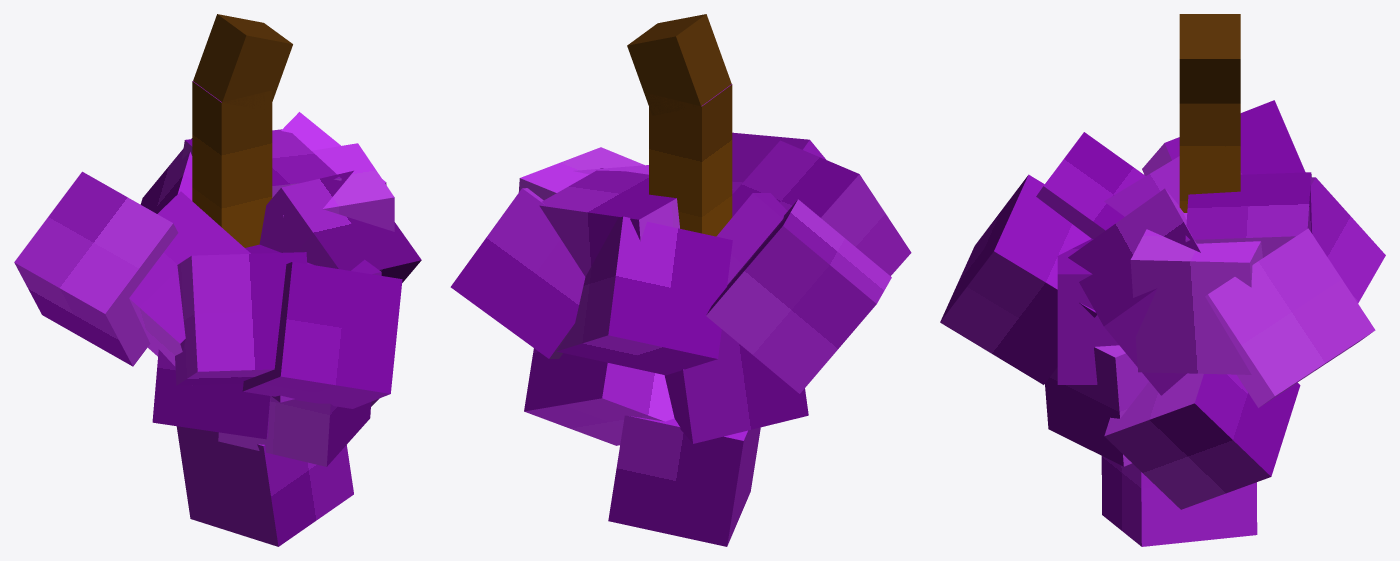
File: Grape.gltf
3 views of the same model, side by side, from view 1: azimuth 30°, elevation 25°; view 2: azimuth 150°, elevation 25°; view 3: azimuth 270°, elevation 25° (orthographic). The views are drawn at different scales.
Visible parts, largest first — view 1: cube (×15); view 2: cube (×13); view 3: cube (×15).
Boxes of the visible parts, x1,y1,x2,y2 form: cube (×15): (14, 14, 421, 546); cube (×13): (450, 14, 911, 546); cube (×15): (940, 14, 1385, 546).
Bounding box in the file's own units: 0.4776 × 0.5744 × 0.4568.
1 material, 1 textured.
